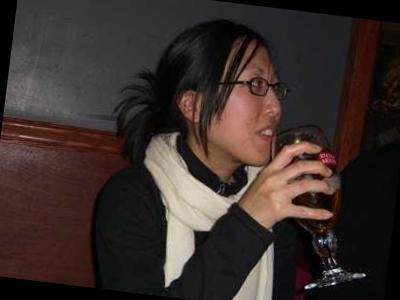Drunk: (214, 40, 286, 163)
